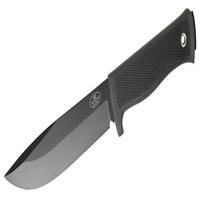knife: (5, 13, 191, 191)
